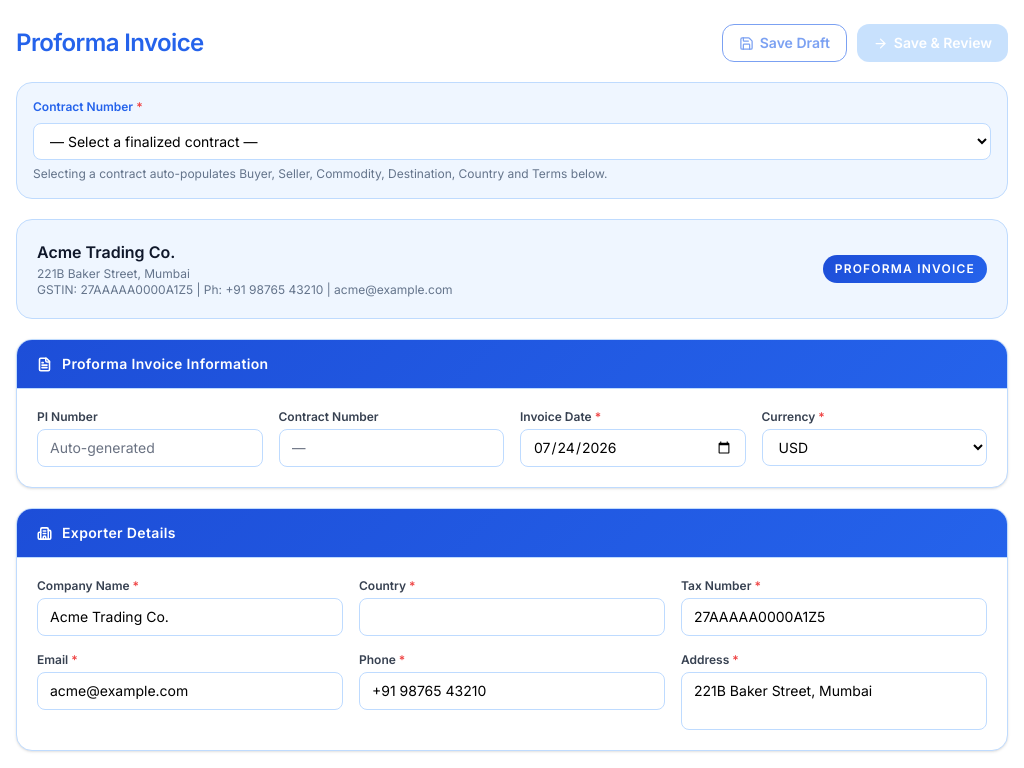
ProformaInvoicePage › selects a contract and auto-populates buyer, exporter and commercial details
This screenshot has width=1024, height=768.
Select "CNT/2024/001 • Buyer: Jane Buyer • Seller: John Seller" in the 1st dropdown "— Select a finalized contract —": (512, 142) [33,123,991,160]
(page scrolled)
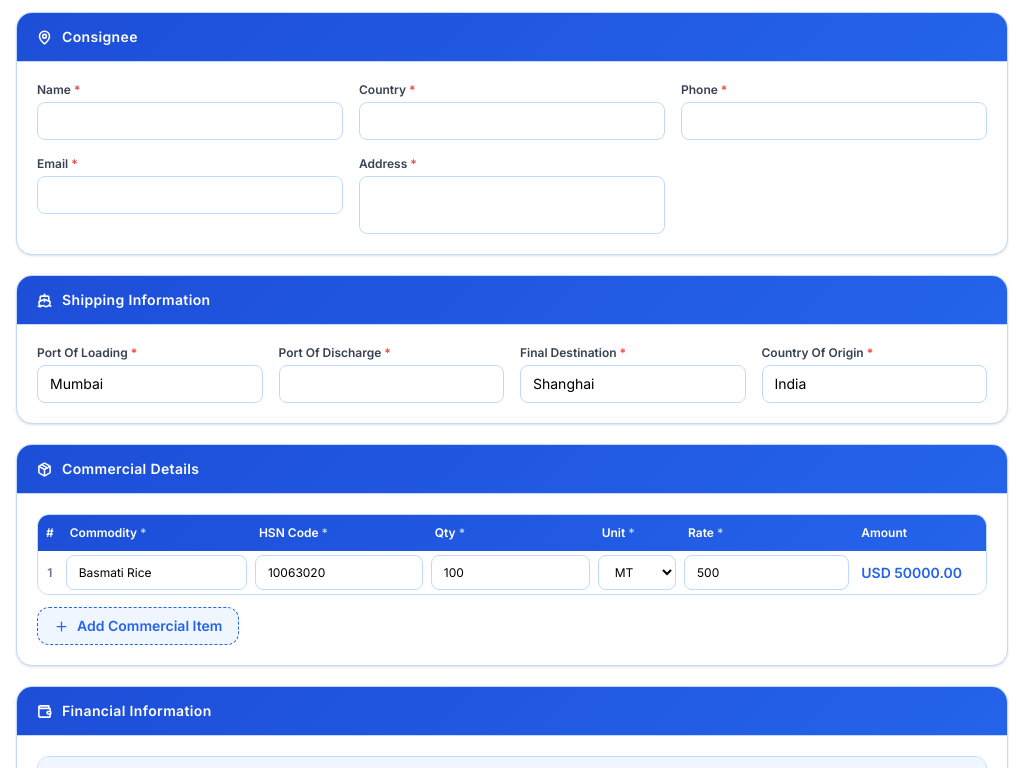
Result: the 9th field showing "Basmati Rice" is shown at [66,555,247,590]
Result: the 10th field showing "10063020" is shown at [255,555,423,590]
Result: the field showing "Mumbai" below "Port Of Loading" is shown at [37,365,262,403]
